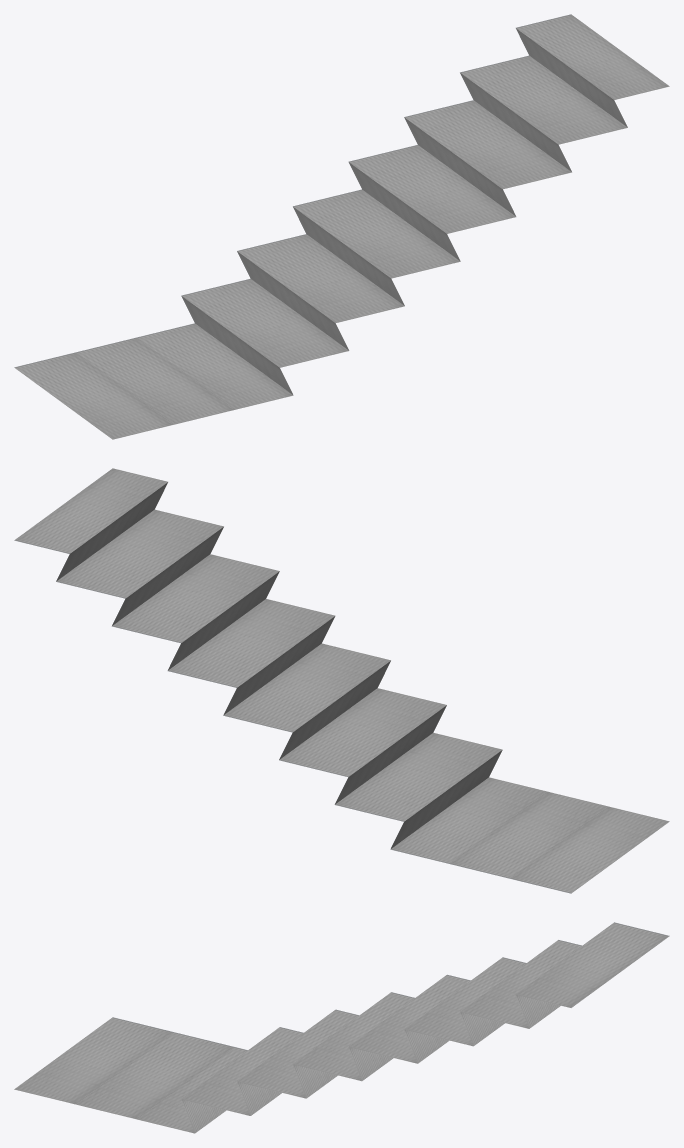
File: ElevatorStairs.fbx
3 renders of one model, top to bottom at view 1: azimuth 30°, elevation 25°; view 2: azimuth 150°, elevation 25°; view 3: azimuth 330°, elevation 25°, orthographic.
Visible parts, largest first — view 1: pPlane3; view 2: pPlane3; view 3: pPlane3.
Boxes of the visible parts, bbox=[...] form: pPlane3: bbox=[14, 14, 669, 439]; pPlane3: bbox=[14, 468, 669, 893]; pPlane3: bbox=[14, 922, 669, 1133].
Bounding box in the file's own units: 36.36 × 13.54 × 11.16.
1 material, 1 textured.
